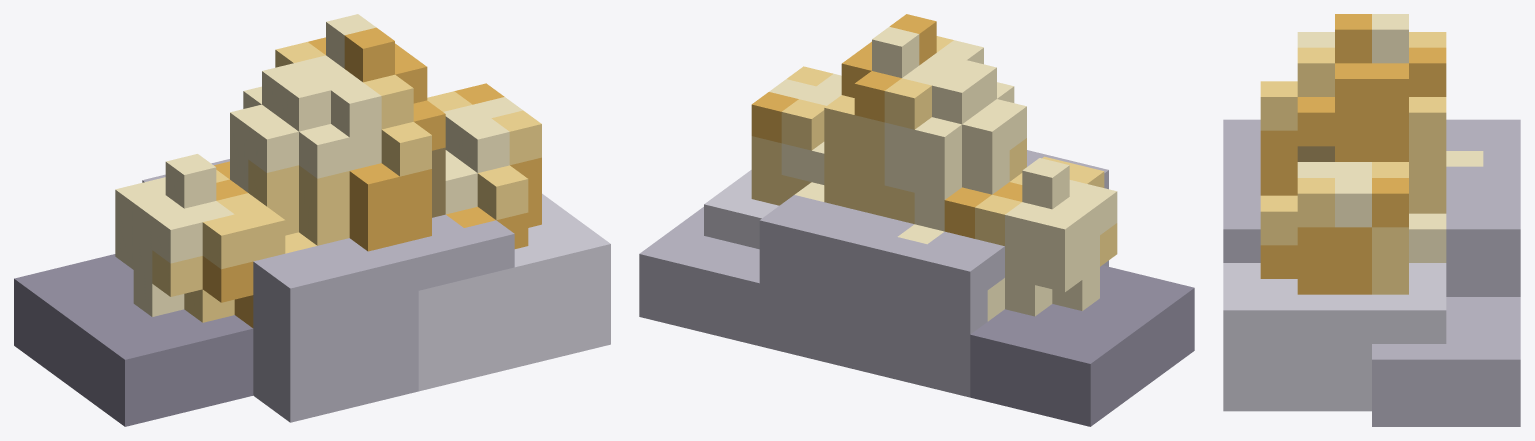
File: auricite_deposit.glb
3 views of the same model, side by side, from view 1: azimuth 30°, elevation 25°; view 2: azimuth 150°, elevation 25°; view 3: azimuth 270°, elevation 25° (orthographic). The views are drawn at different scales.
Size of the model in its own units: 0.9375 by 0.5625 by 0.5.
